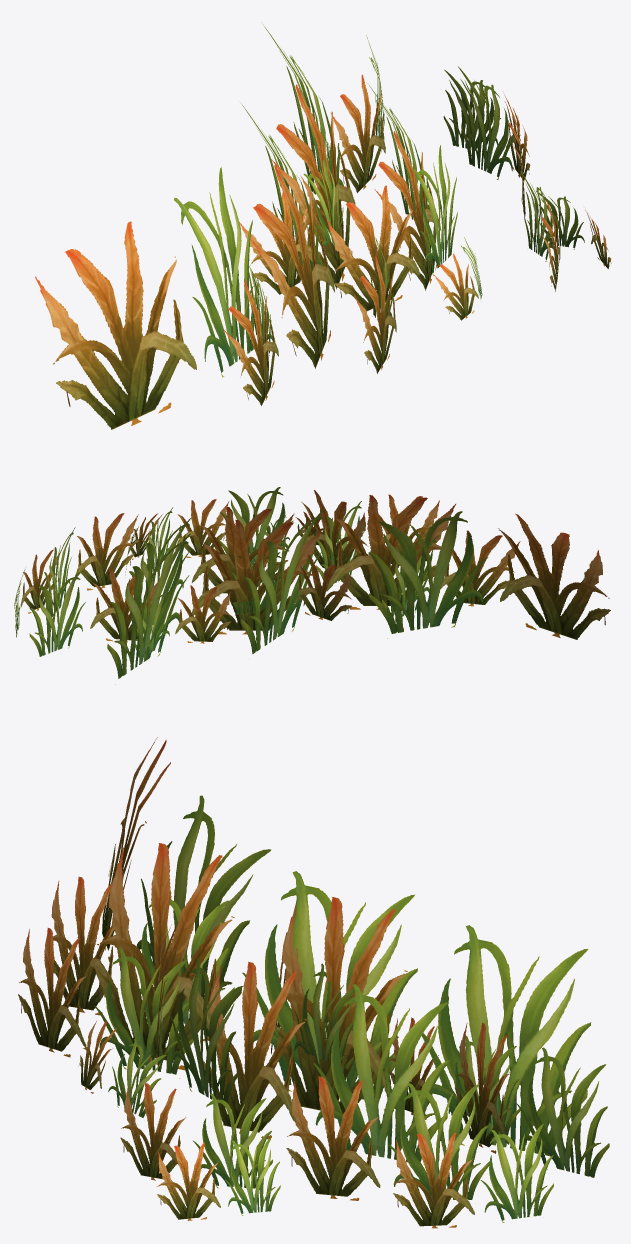
Rendered from grass_001.FBX.
3 views of the same model, one above another, from view 1: azimuth 30°, elevation 25°; view 2: azimuth 150°, elevation 25°; view 3: azimuth 270°, elevation 25° (orthographic). The views are drawn at different scales.
Visible parts, largest first — view 1: Object253; view 2: Object253; view 3: Object253.
Boxes of the visible parts, bbox=[...] form: Object253: bbox=[35, 22, 611, 429]; Object253: bbox=[14, 487, 610, 684]; Object253: bbox=[18, 737, 609, 1228].
Size of the model in its own units: 237 by 68.64 by 173.
